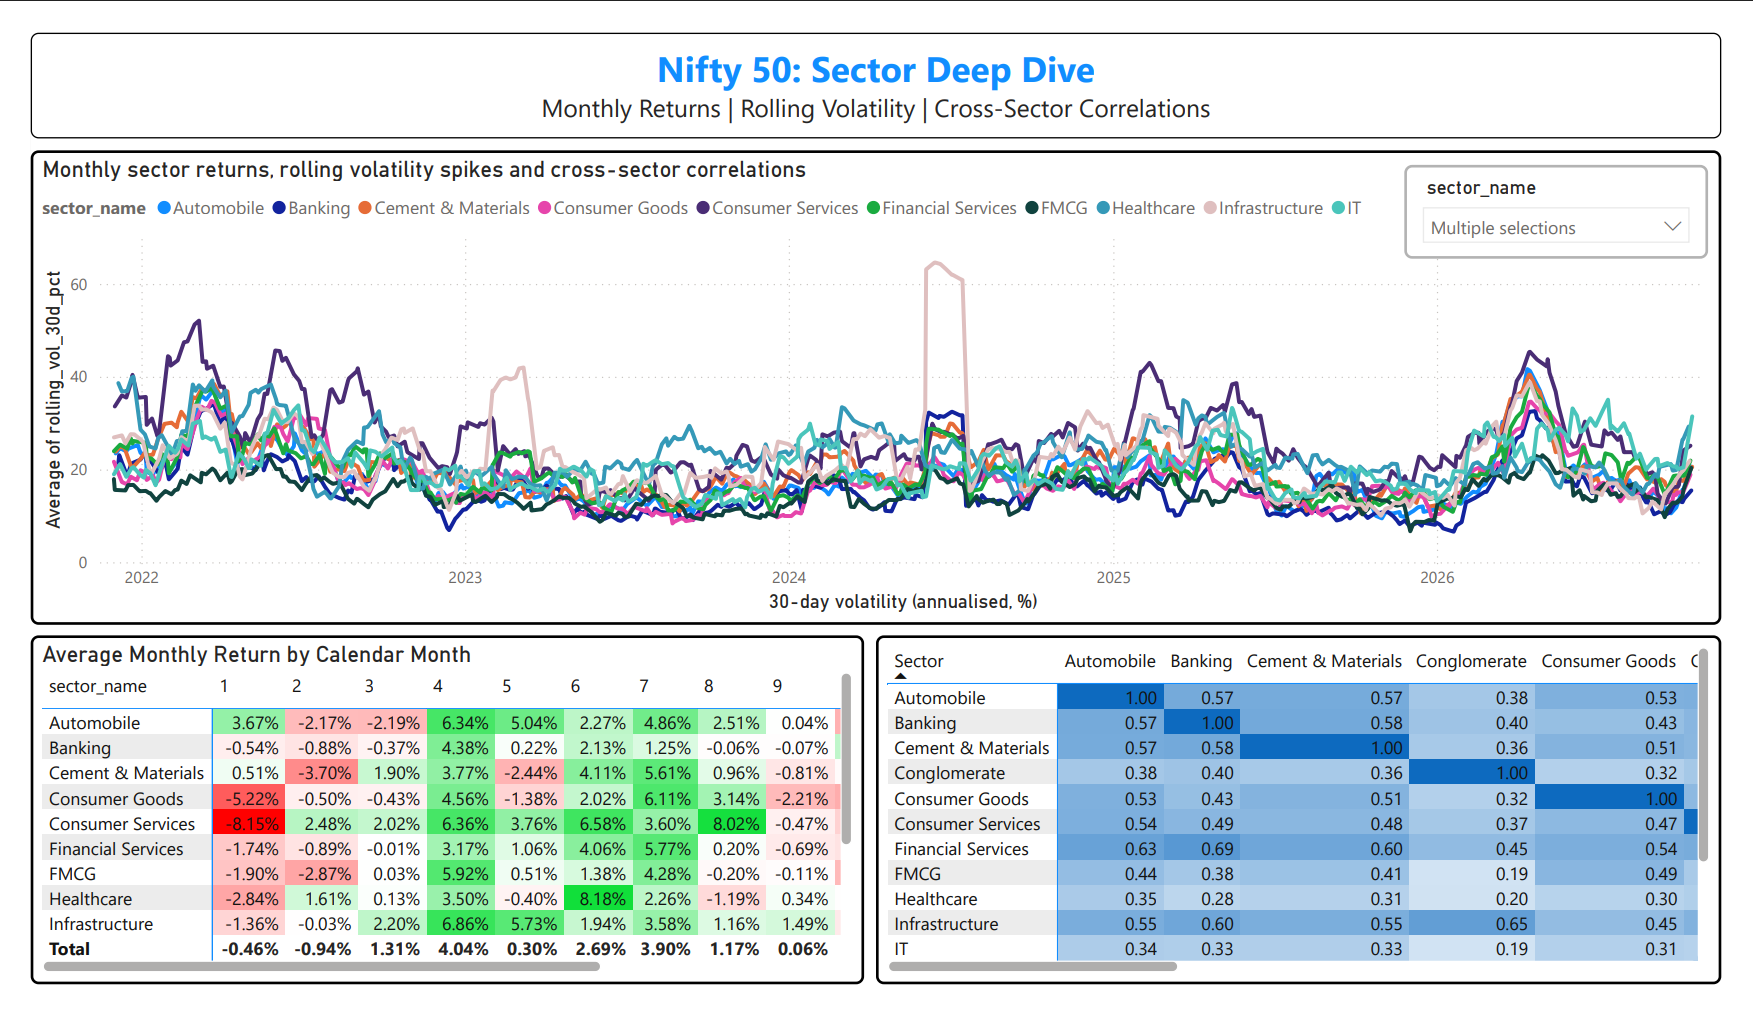

The page's visual inventory and layout, read from the dashboard file:
{"tool":"powerbi","page":{"name":"Sector Deep Dive","canvas":[1280,720],"ordinal":2},"visuals":[{"type":"textbox","box":[0,0,1280,80],"z":0},{"type":"pivotTable","title":"Average Monthly Return by Calendar Month","fields":{"Rows":["DimSector.sector_name"],"Columns":["sector_monthly_returns.Month No"],"Values":["Avg(sector_monthly_returns.monthly_return)"]},"box":[0,455.6,631.1,264.4],"z":1000},{"type":"lineChart","title":"Monthly sector returns, rolling volatility spikes and cross-sector correlations","fields":{"Y":["Avg(sector_rolling_volatility.rolling_vol_30d_pct)"],"Series":["sector_rolling_volatility.sector_name"],"Category":["sector_rolling_volatility.trade_date.Variation.Date Hierarchy.Year","sector_rolling_volatility.trade_date.Variation.Date Hierarchy.Quarter","sector_rolling_volatility.trade_date.Variation.Date Hierarchy.Month","sector_rolling_volatility.trade_date.Variation.Date Hierarchy.Day"]},"box":[0,88.9,1280,358.9],"z":2000},{"type":"slicer","fields":{"Values":["DimSector.sector_name"]},"box":[1040,100,230,71.1],"z":3000},{"type":"pivotTable","fields":{"Rows":["sector_correlation.ticker"],"Values":["Avg(sector_correlation.Automobile)","Avg(sector_correlation.Banking)","Avg(sector_correlation.Cement & Materials)","Avg(sector_correlation.Conglomerate)","Avg(sector_correlation.Consumer Goods)","Avg(sector_correlation.Consumer Services)","Avg(sector_correlation.Financial Services)","Avg(sector_correlation.FMCG)","Avg(sector_correlation.Healthcare)","Avg(sector_correlation.Infrastructure)","Avg(sector_correlation.IT)","Avg(sector_correlation.Metals & Mining)"]},"box":[640,455.6,640,264.4],"z":4000}]}

Visuals, with their boxes in screenshot pixels (x1, y1, x2, y2), scaled from the page's 1280x720 canvas onto the 1753x1015 screenshot:
textbox: Rect(0, 0, 1752, 113)
"Average Monthly Return by Calendar Month" pivotTable: Rect(0, 642, 864, 1014)
"Monthly sector returns, rolling volatility spikes and cross-sector correlations" lineChart: Rect(0, 125, 1752, 631)
slicer - DimSector.sector_name: Rect(1424, 141, 1739, 241)
pivotTable - sector_correlation.ticker x Avg(sector_correlation.Automobile): Rect(876, 642, 1752, 1014)
